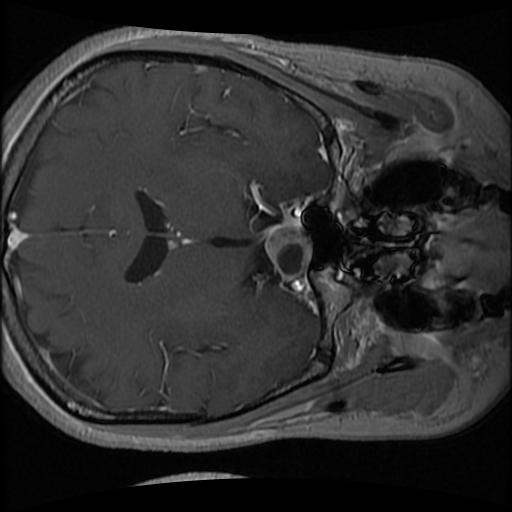pituitary tumour: (265, 223, 311, 281)
